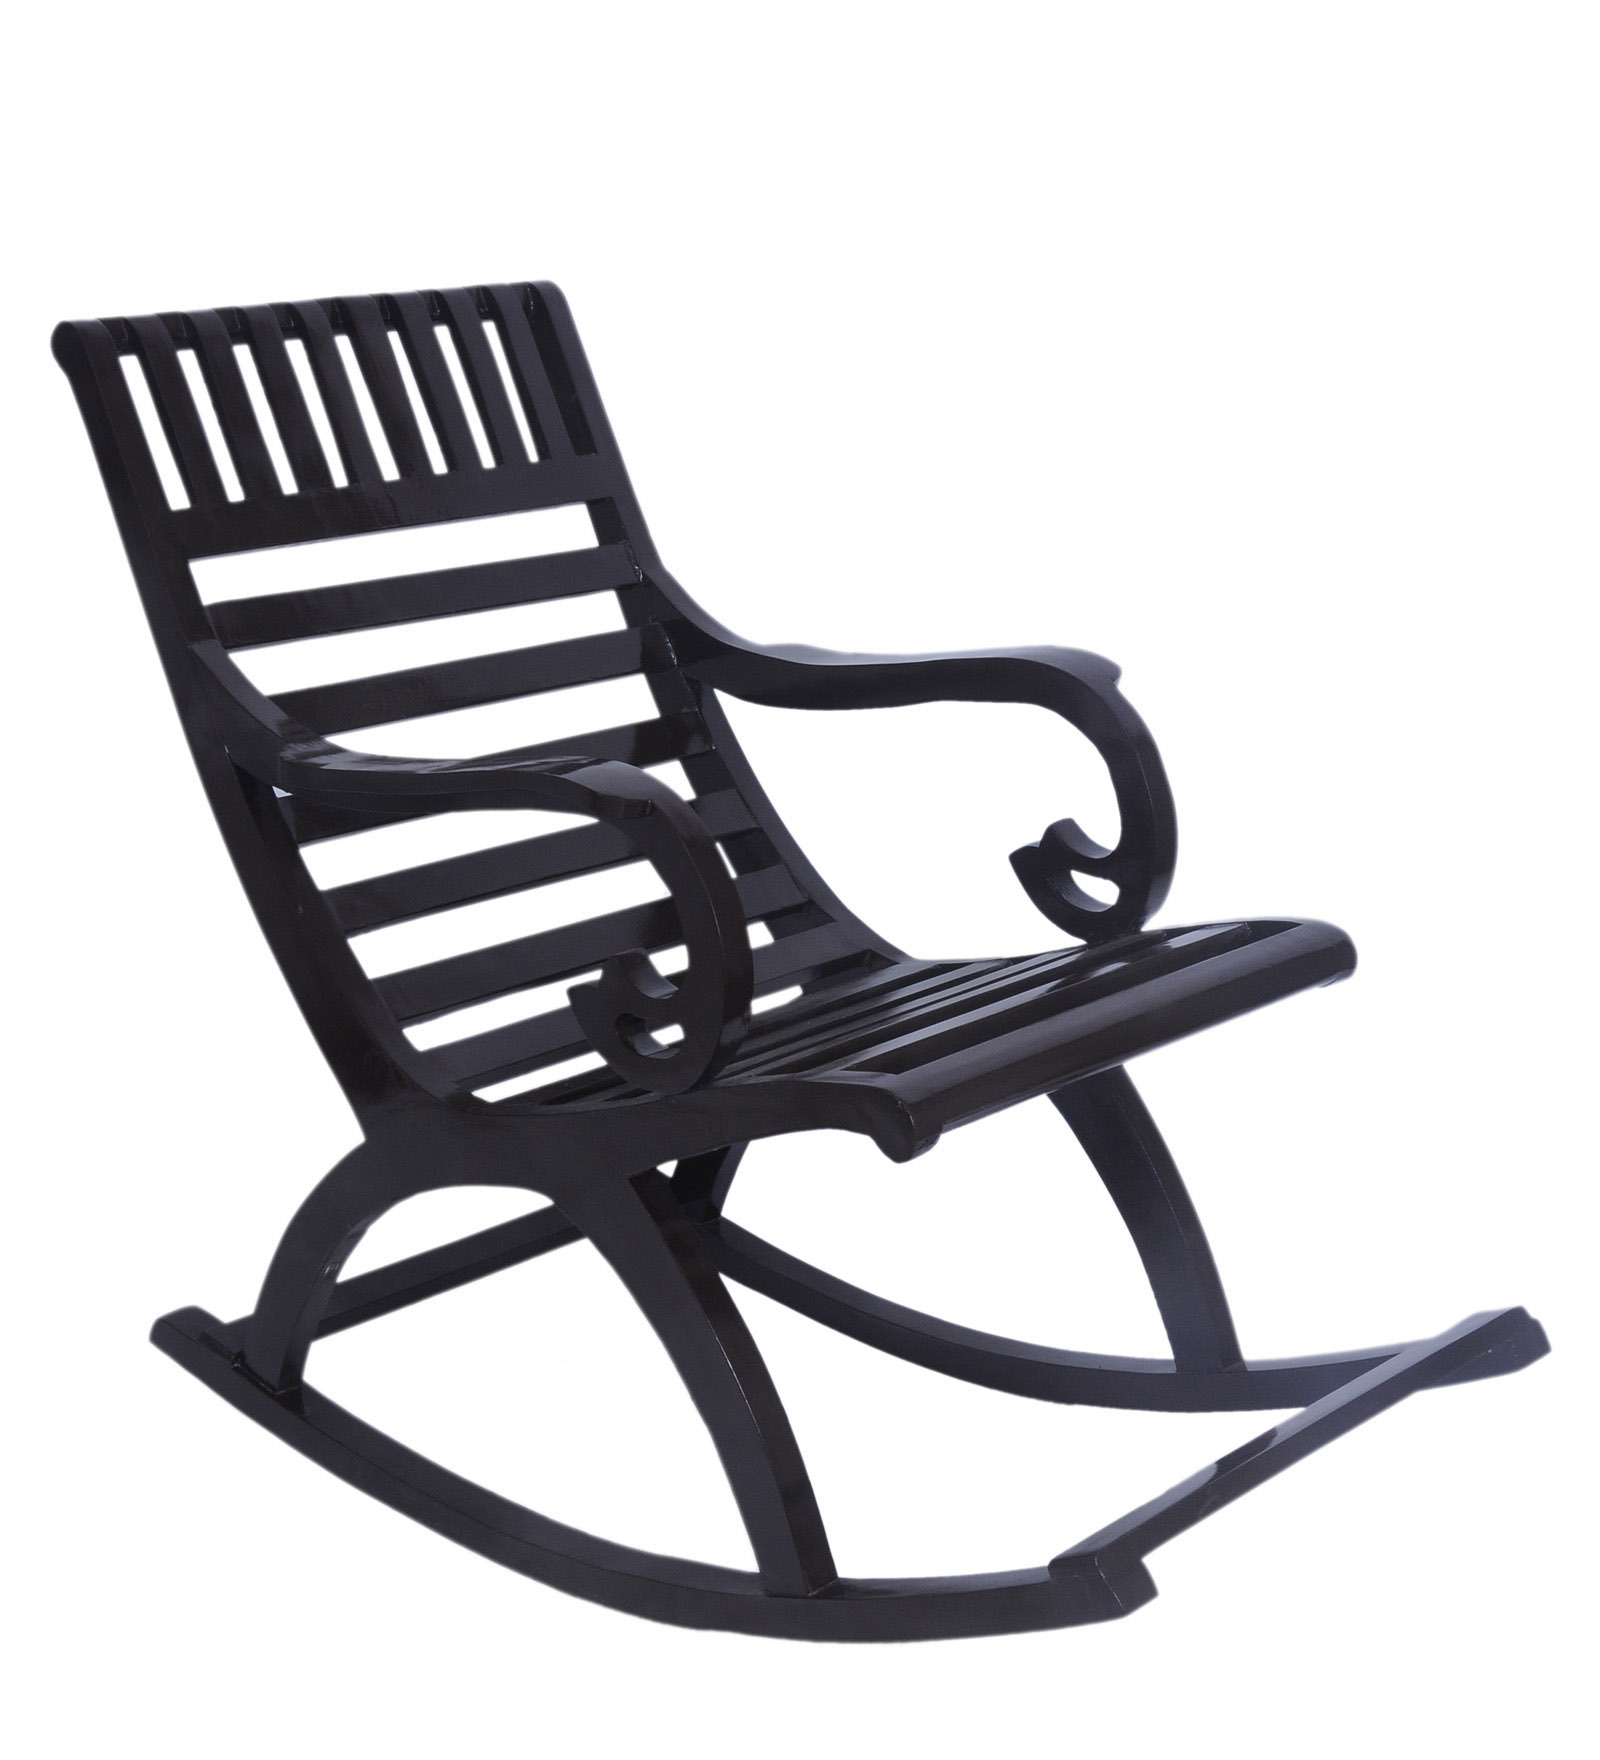Teak Wood Rocking Chair in Walnut Finish by Furniease: (38, 202, 1580, 1722)
